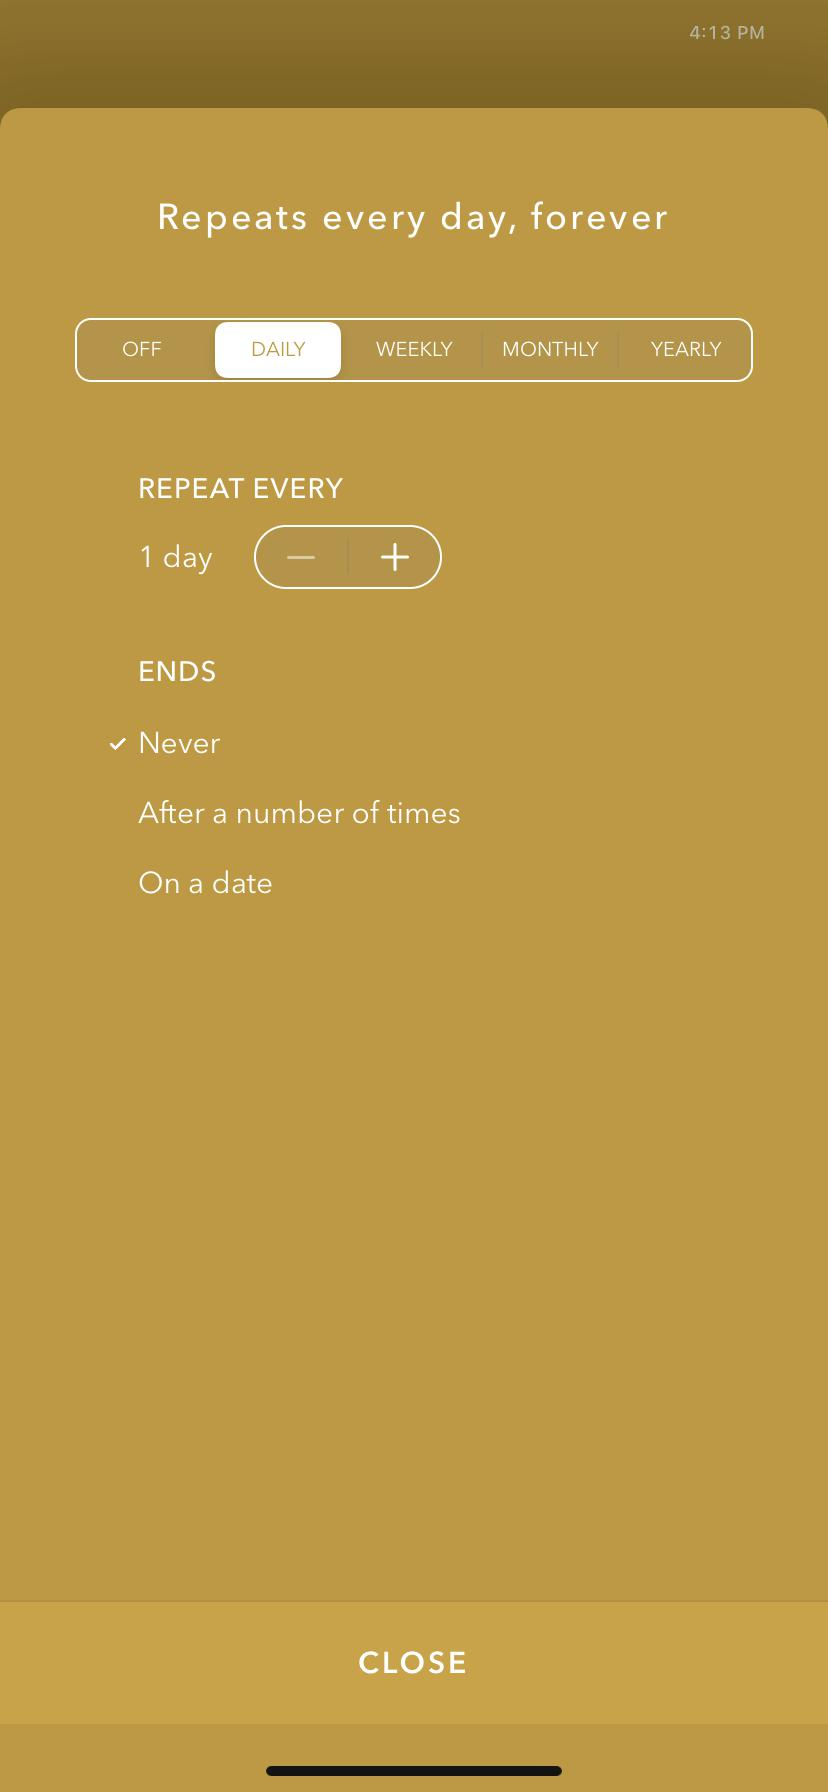Buttons: (1, 1585, 828, 1731)
Checkboxes: (91, 715, 136, 770)
Steppers: (250, 518, 452, 594)
